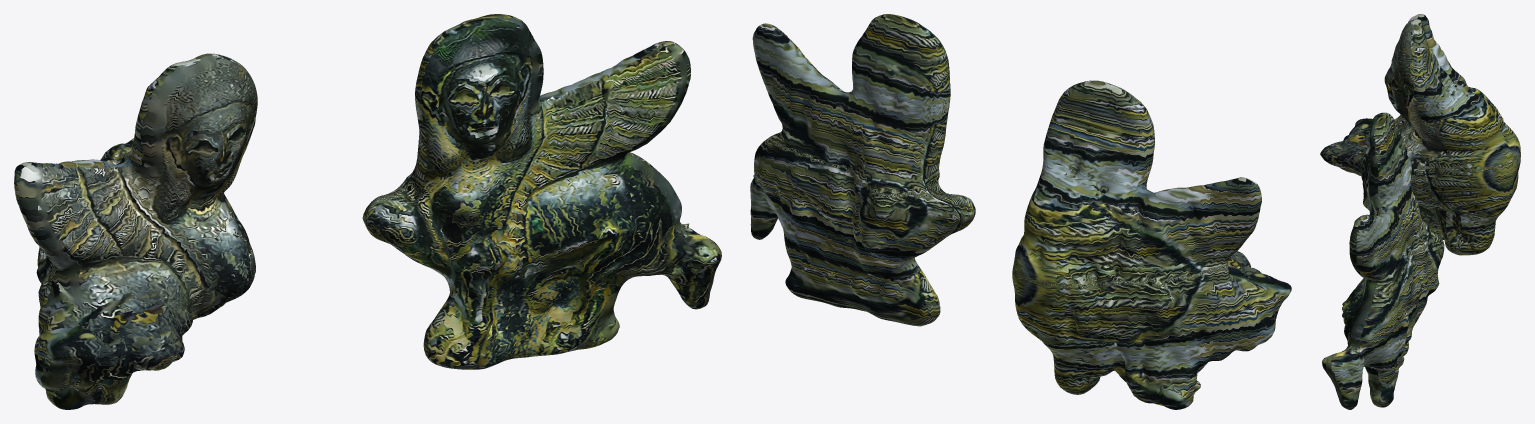
Rendered from ane-22.glb.
3 renders of one model, left to right at view 1: azimuth 30°, elevation 25°; view 2: azimuth 150°, elevation 25°; view 3: azimuth 270°, elevation 25°, orthographic. The views are drawn at different scales.
Parts seen in each view (by area): view 1: ane-22; view 2: ane-22; view 3: ane-22.
Part boxes in pixels (<box>): ane-22: <box>14,14,721,409</box>; ane-22: <box>750,14,1291,409</box>; ane-22: <box>1320,14,1520,409</box>.
Bounding box in the file's own units: 0.9961 × 0.5306 × 0.3808.
2 materials, 2 textured.
